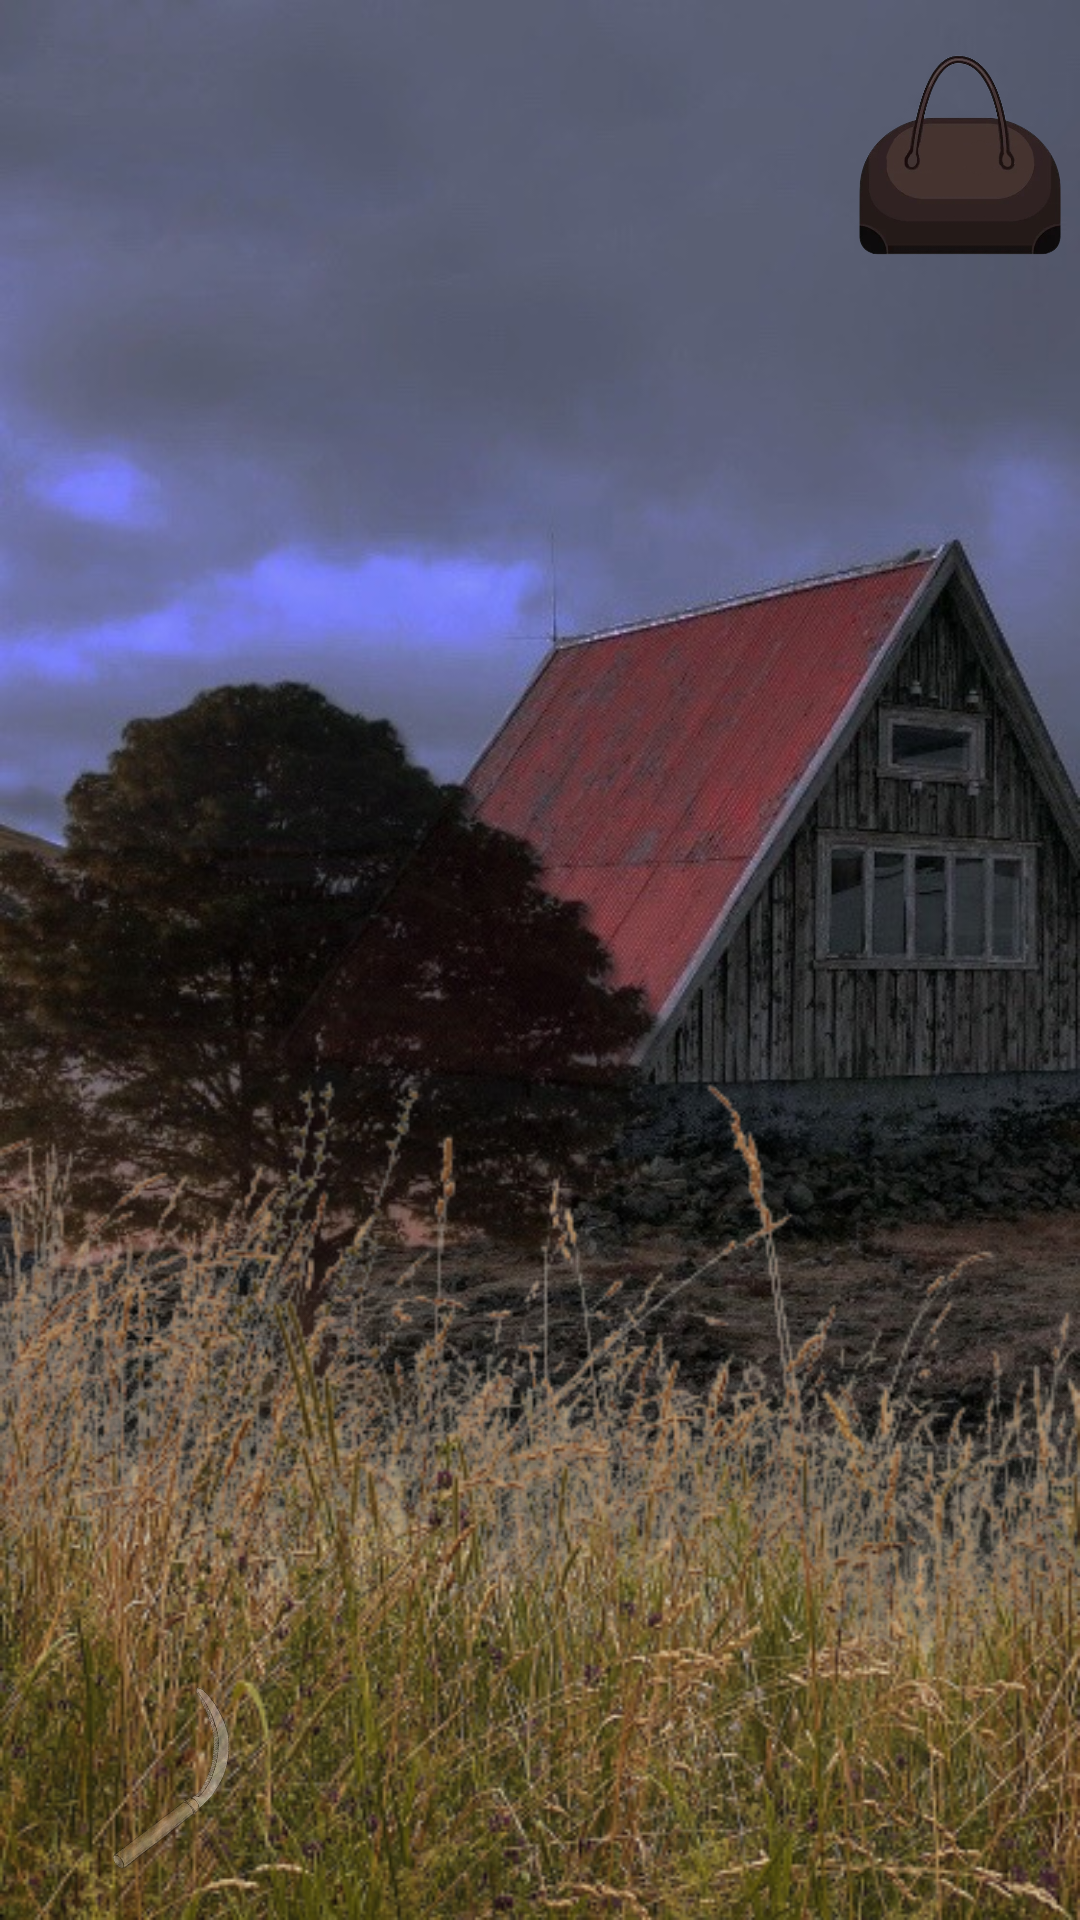

Icon bounding boxes for this 1080px x 1920px phone screenshot, format (x1,y1,x2,y2):
bag: (859,56,1061,254)
